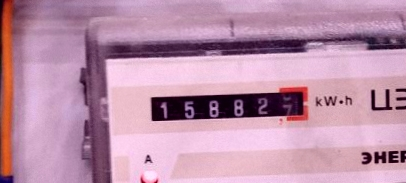1: (157, 99, 169, 118)
2: (256, 95, 268, 114)
5: (182, 98, 194, 119)
7: (281, 102, 292, 116)
8: (207, 97, 219, 118), (232, 97, 244, 118)
screen: (142, 80, 317, 129)
